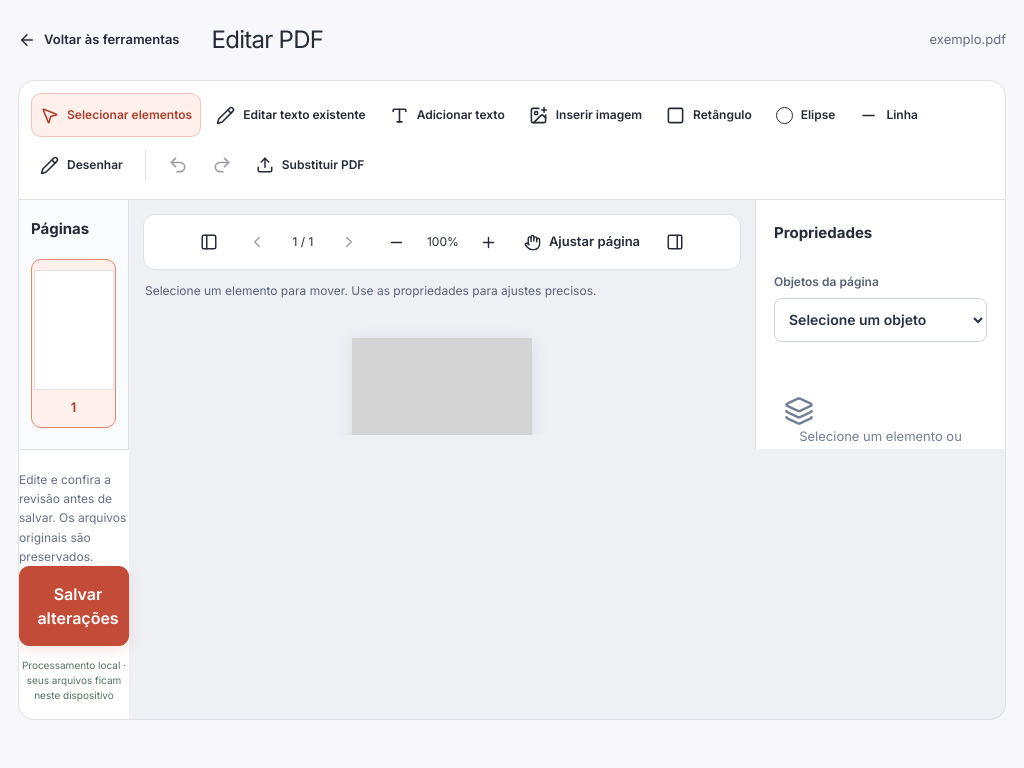
Scenario: adiciona elemento e permite desfazer sem perder a revisão
Click the button "Adicionar texto".
click(447, 115)  # box [381,93,514,137]
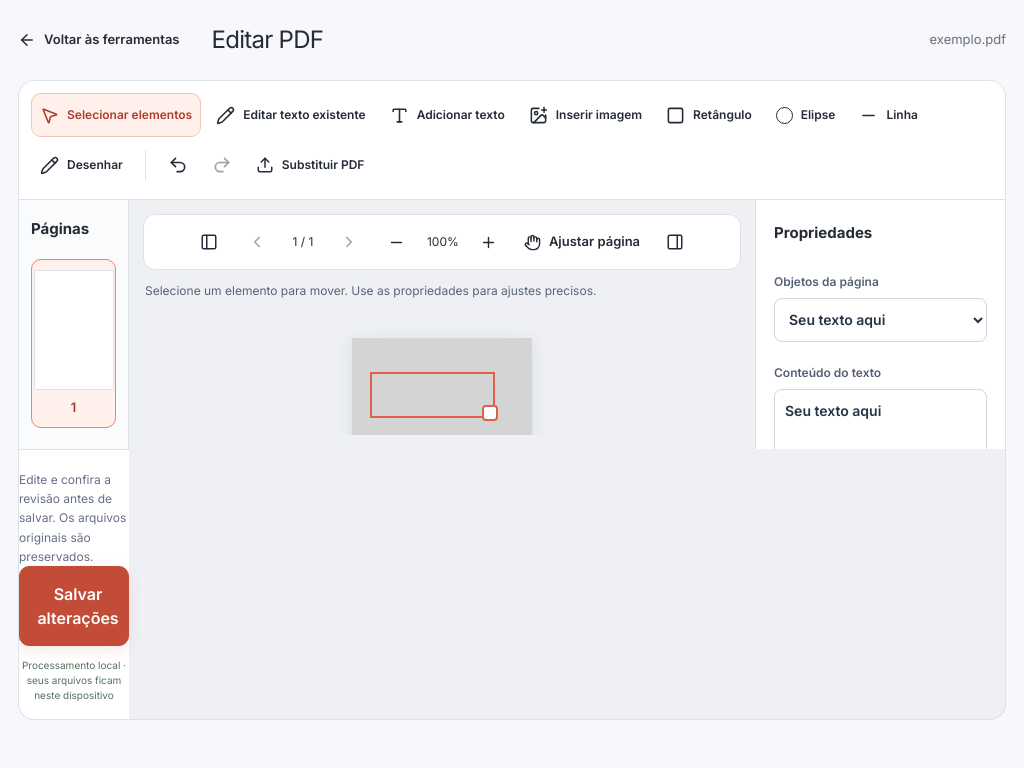
expect the button named "Desfazer" is enabled: met
Click the button named "Desfazer".
click(178, 165)  # box [159,143,197,187]
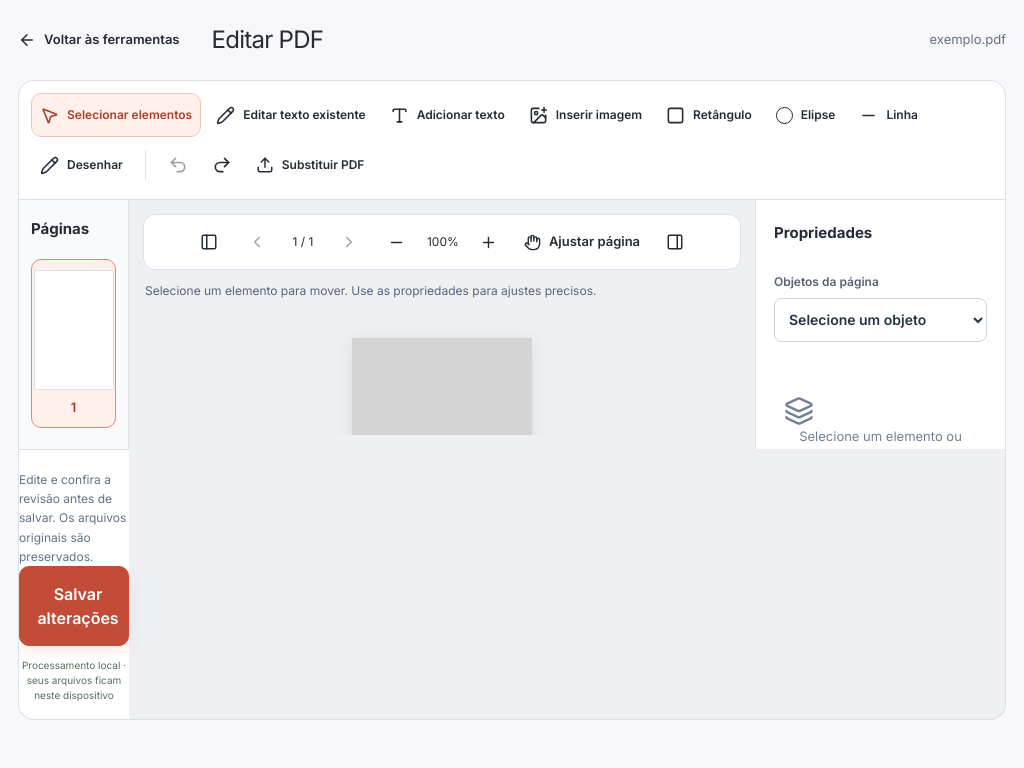
expect the button named "Refazer" is enabled: met, box [203,143,241,187]
